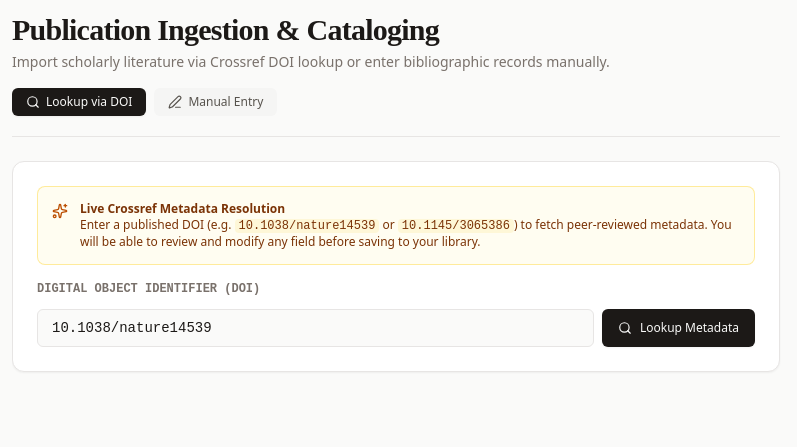
Test: ImportDoiPage (DOI Import & Manual Entry) › displays error banner when DOI is not found in Crossref (404)
Step 1. Replace the text in the field with placeholder "10.xxxx/xxxxx" with "10.9999/notfound" → (316, 328), box [37,309,594,347]
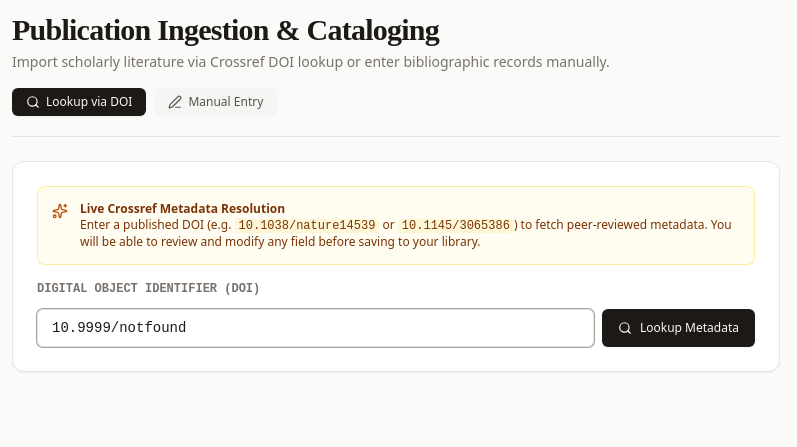
Step 2. Click the button "Lookup Metadata" → click(678, 328), box [602,309,755,347]
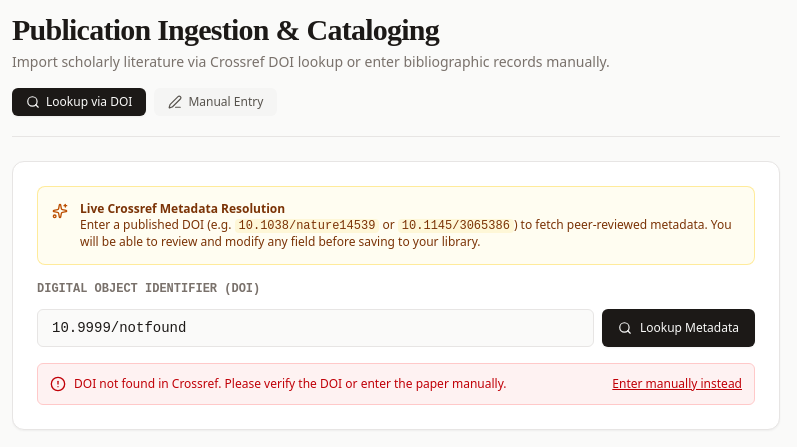
Now the text "DOI not found in Crossref. Please verify the DOI or enter the paper manually." is shown, box [74,376,506,392]
Now the button "Enter manually instead" is shown, box [612,376,742,392]
